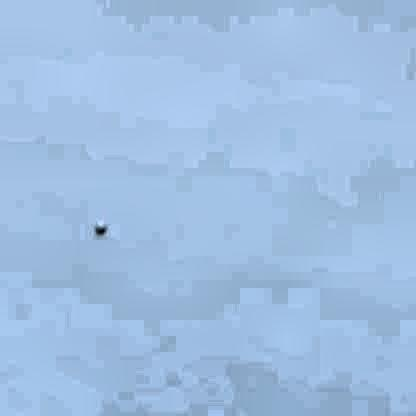golfball: (92, 215, 105, 231)
